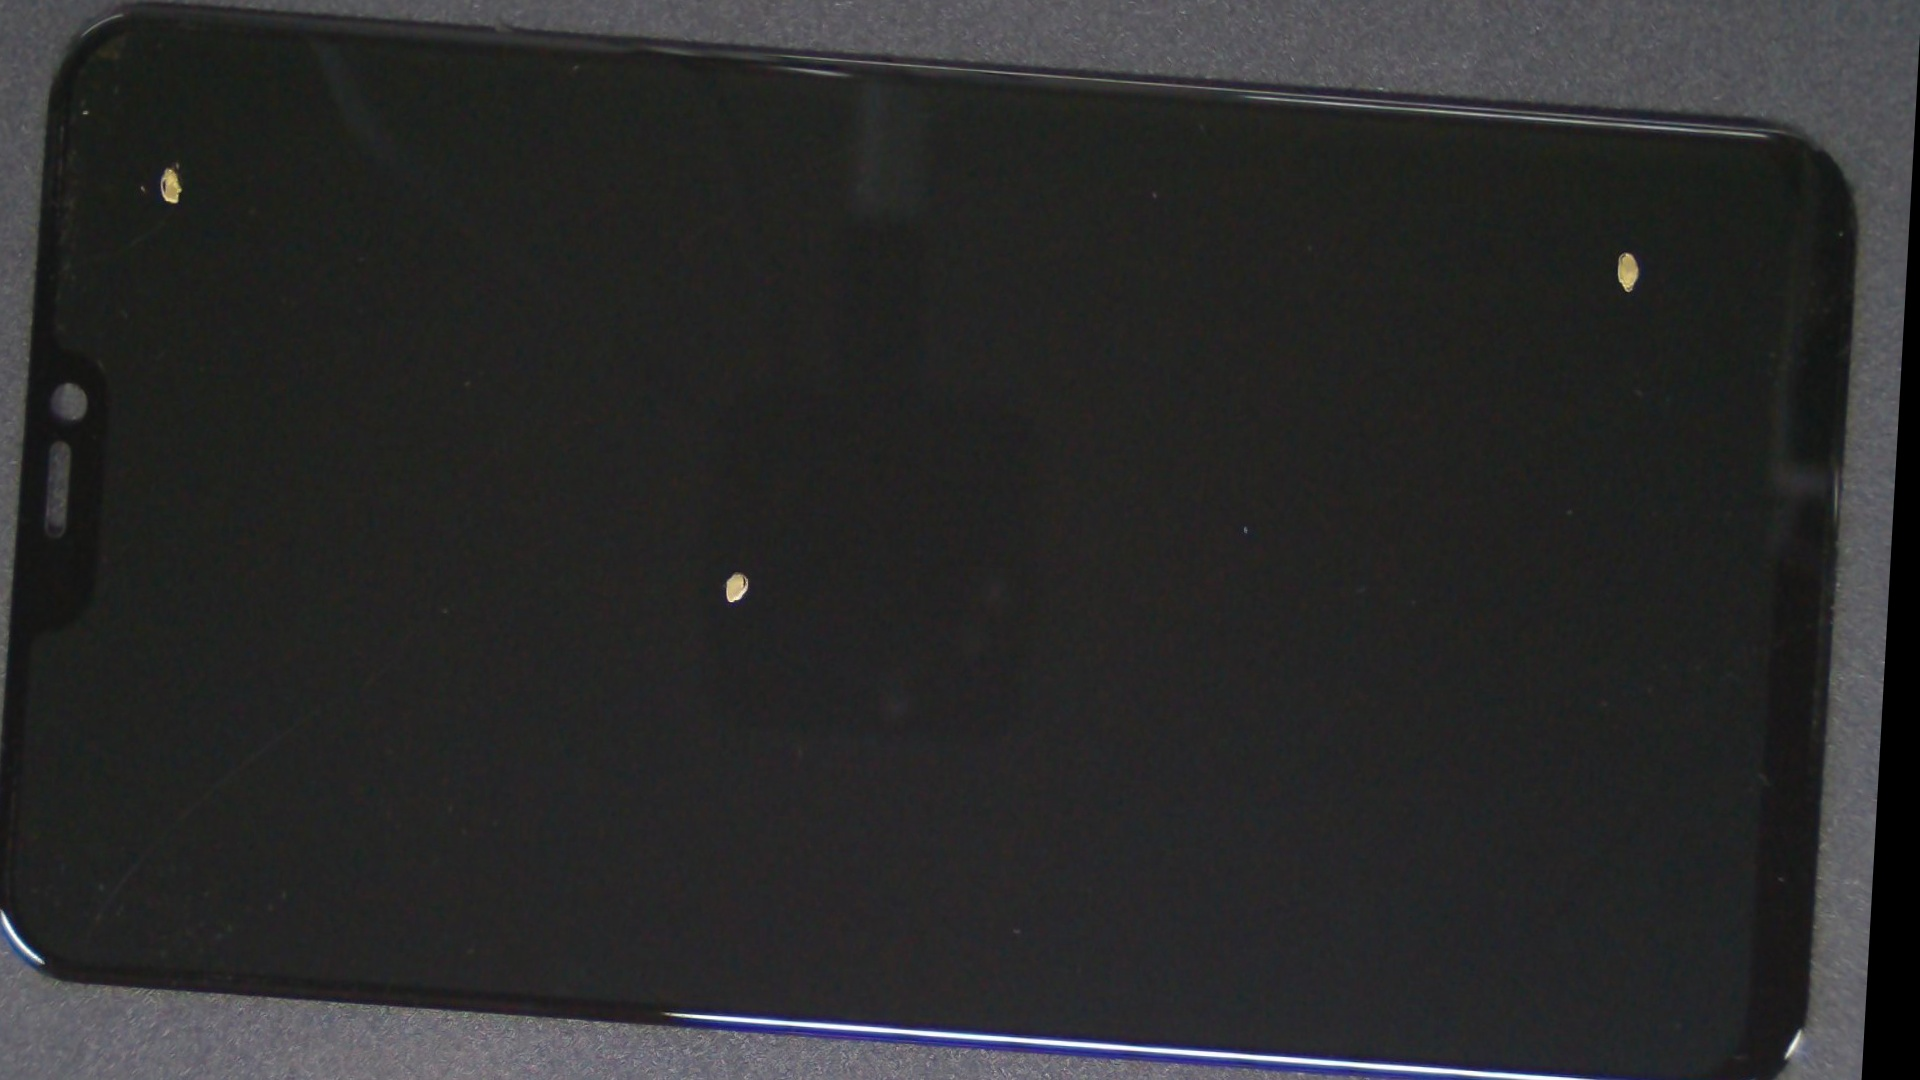oil: (315, 211, 1158, 926), (779, 54, 1915, 415), (50, 13, 285, 322)
